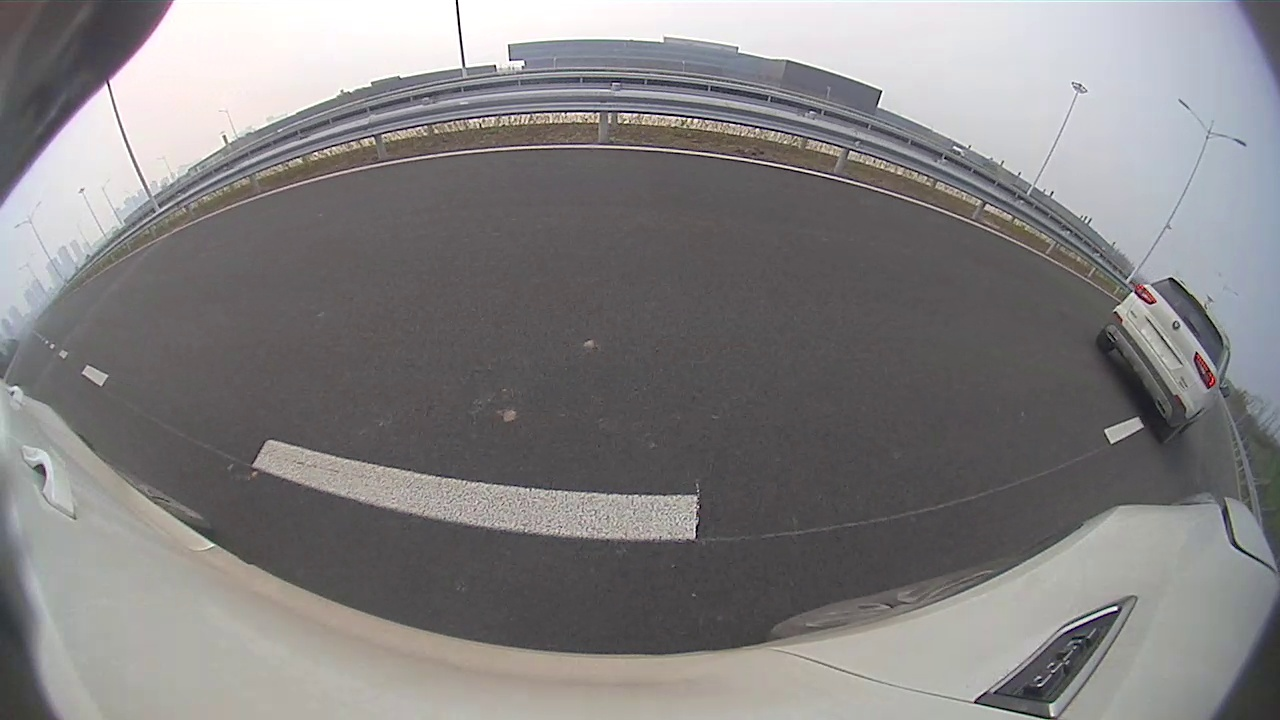car: (1096, 276, 1232, 443)
rear: (1158, 418, 1194, 444)
